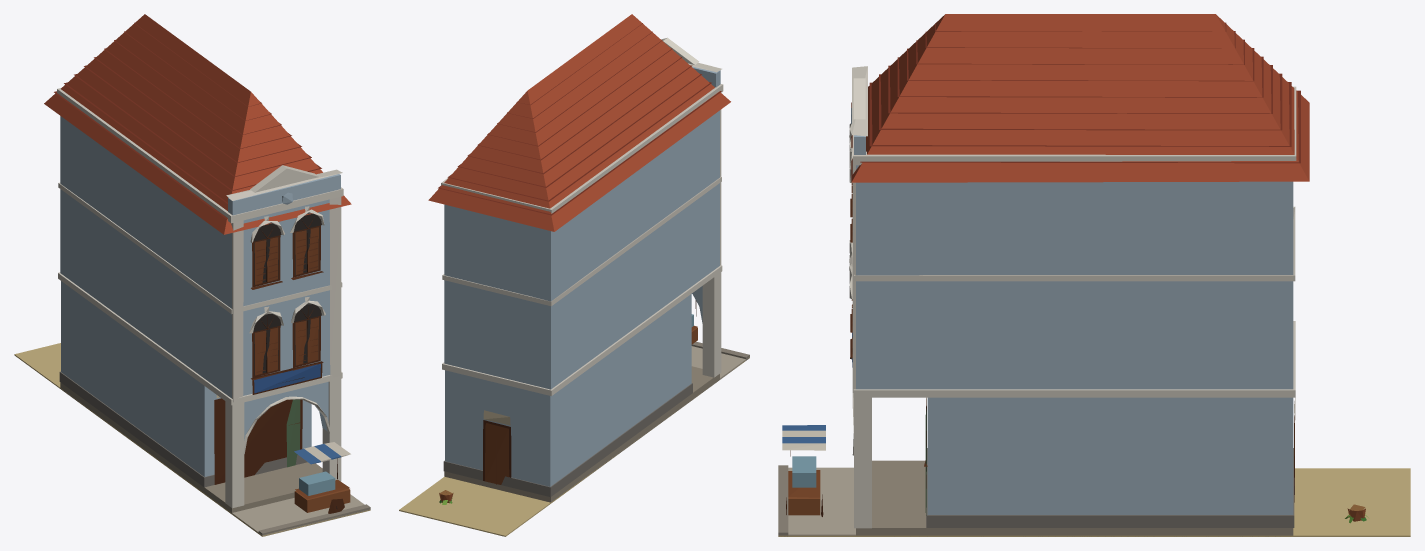
The model's file is bay2_mid.glb.
The picture shows the model from 3 angles, left to right: view 1: azimuth 30°, elevation 25°; view 2: azimuth 150°, elevation 25°; view 3: azimuth 270°, elevation 25°; orthographic projection. The views are drawn at different scales.
Parts seen in each view (by area): view 1: body, windows; view 2: body; view 3: body.
Boxes of the visible parts, x1,y1,x2,y2 form: body: (14, 14, 370, 536); windows: (253, 213, 321, 375); body: (399, 14, 749, 536); body: (778, 14, 1410, 536).
Size of the model in its own units: 4.75 by 13.87 by 15.9.
